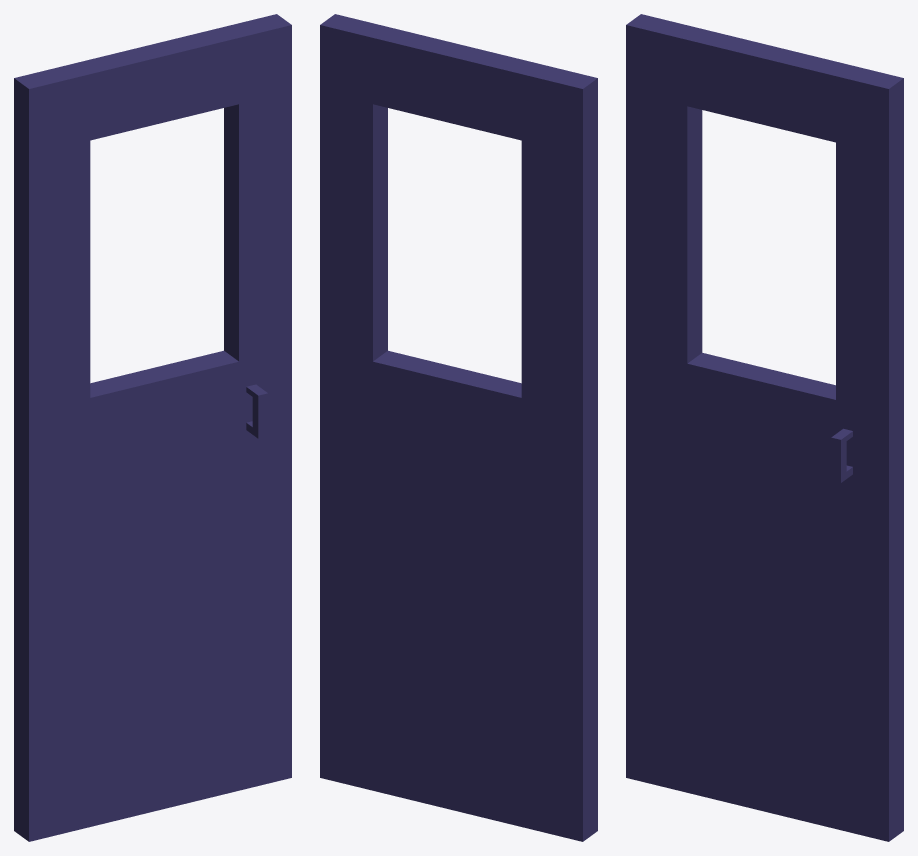
File: Door1.fbx
The picture shows the model from 3 angles, left to right: view 1: azimuth 30°, elevation 25°; view 2: azimuth 150°, elevation 25°; view 3: azimuth 330°, elevation 25°; orthographic projection.
Visible parts, largest first — view 1: Door1; view 2: Door1; view 3: Door1.
Boxes of the visible parts, left/top/right/bottom form: Door1: left=14, top=14, right=291, bottom=841; Door1: left=320, top=14, right=597, bottom=841; Door1: left=626, top=14, right=903, bottom=841.
Size of the model in its own units: 81.86 by 224 by 14.61.
